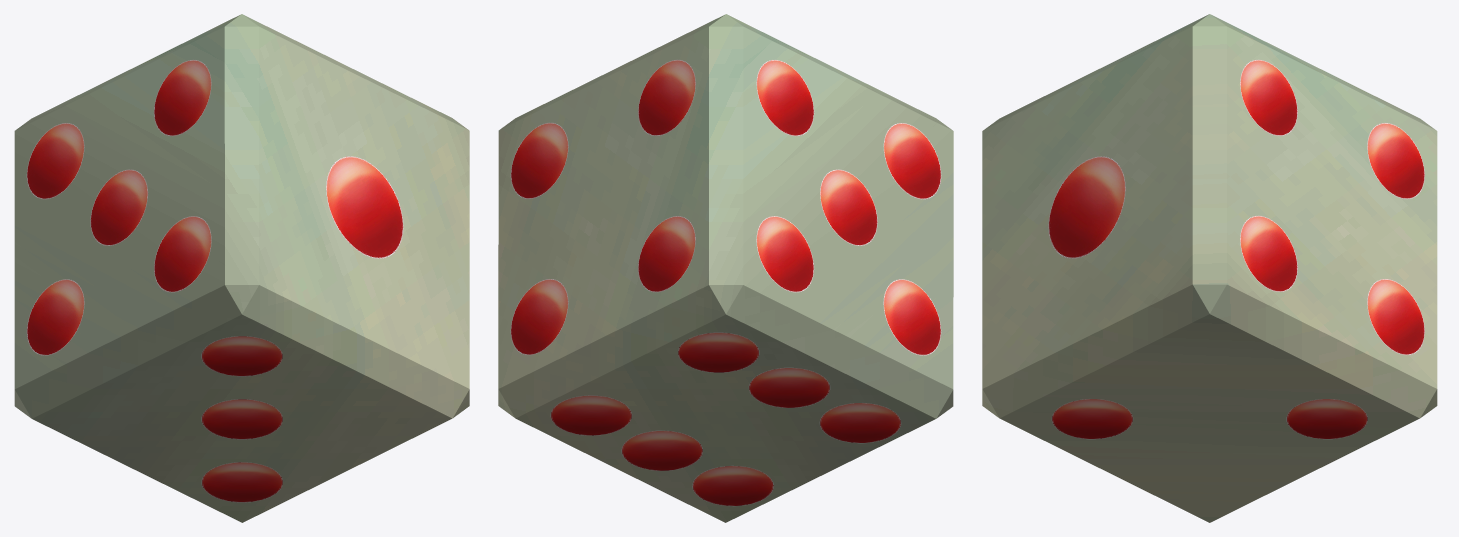
File: diagonal_dice_white.obj
3 views of the same model, side by side, from view 1: azimuth 30°, elevation 25°; view 2: azimuth 150°, elevation 25°; view 3: azimuth 270°, elevation 25° (orthographic).
Visible parts, largest first — view 1: obj2, obj3; view 2: obj2, obj3; view 3: obj2, obj3.
Part boxes in pixels (x1,y1,x2,y2): obj2: [14, 14, 469, 522]; obj3: [26, 59, 403, 502]; obj2: [498, 14, 953, 522]; obj3: [510, 59, 941, 506]; obj2: [982, 14, 1437, 522]; obj3: [1048, 59, 1424, 439].
Bounding box in the file's own units: 759 × 785 × 669.
